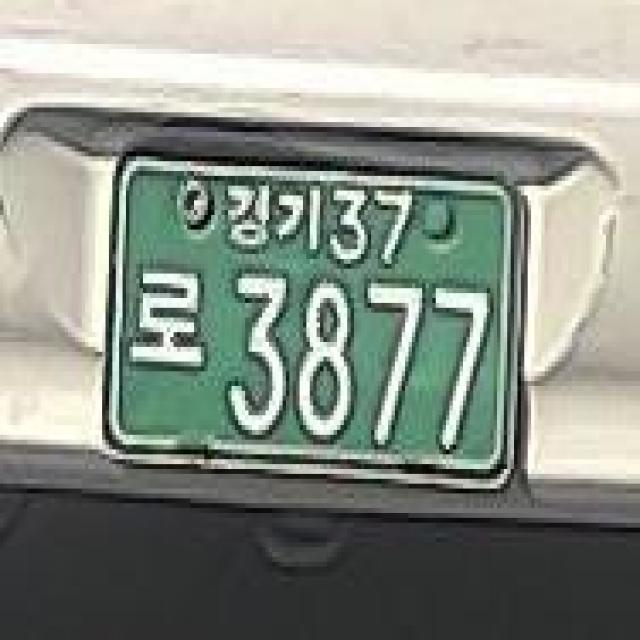illegal_plate: (89, 125, 543, 522)
